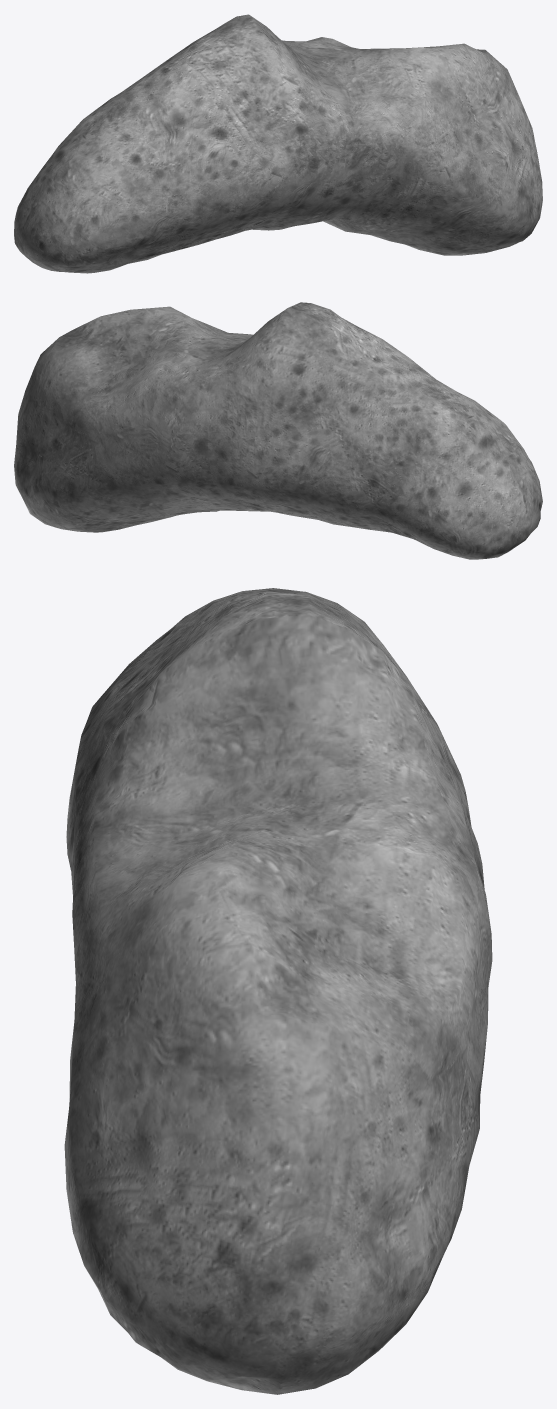
Rendered from 433_eros.gltf.
3 renders of one model, top to bottom at view 1: azimuth 30°, elevation 25°; view 2: azimuth 150°, elevation 25°; view 3: azimuth 270°, elevation 25°, orthographic. The views are drawn at different scales.
Visible parts, largest first — view 1: eros_LP; view 2: eros_LP; view 3: eros_LP.
Part boxes in pixels (x1,y1,x2,y2): eros_LP: [14, 14, 542, 273]; eros_LP: [14, 302, 542, 559]; eros_LP: [64, 588, 492, 1394].
Bounding box in the file's own units: 32601 × 16808 × 11848.
1 material, 1 textured.
